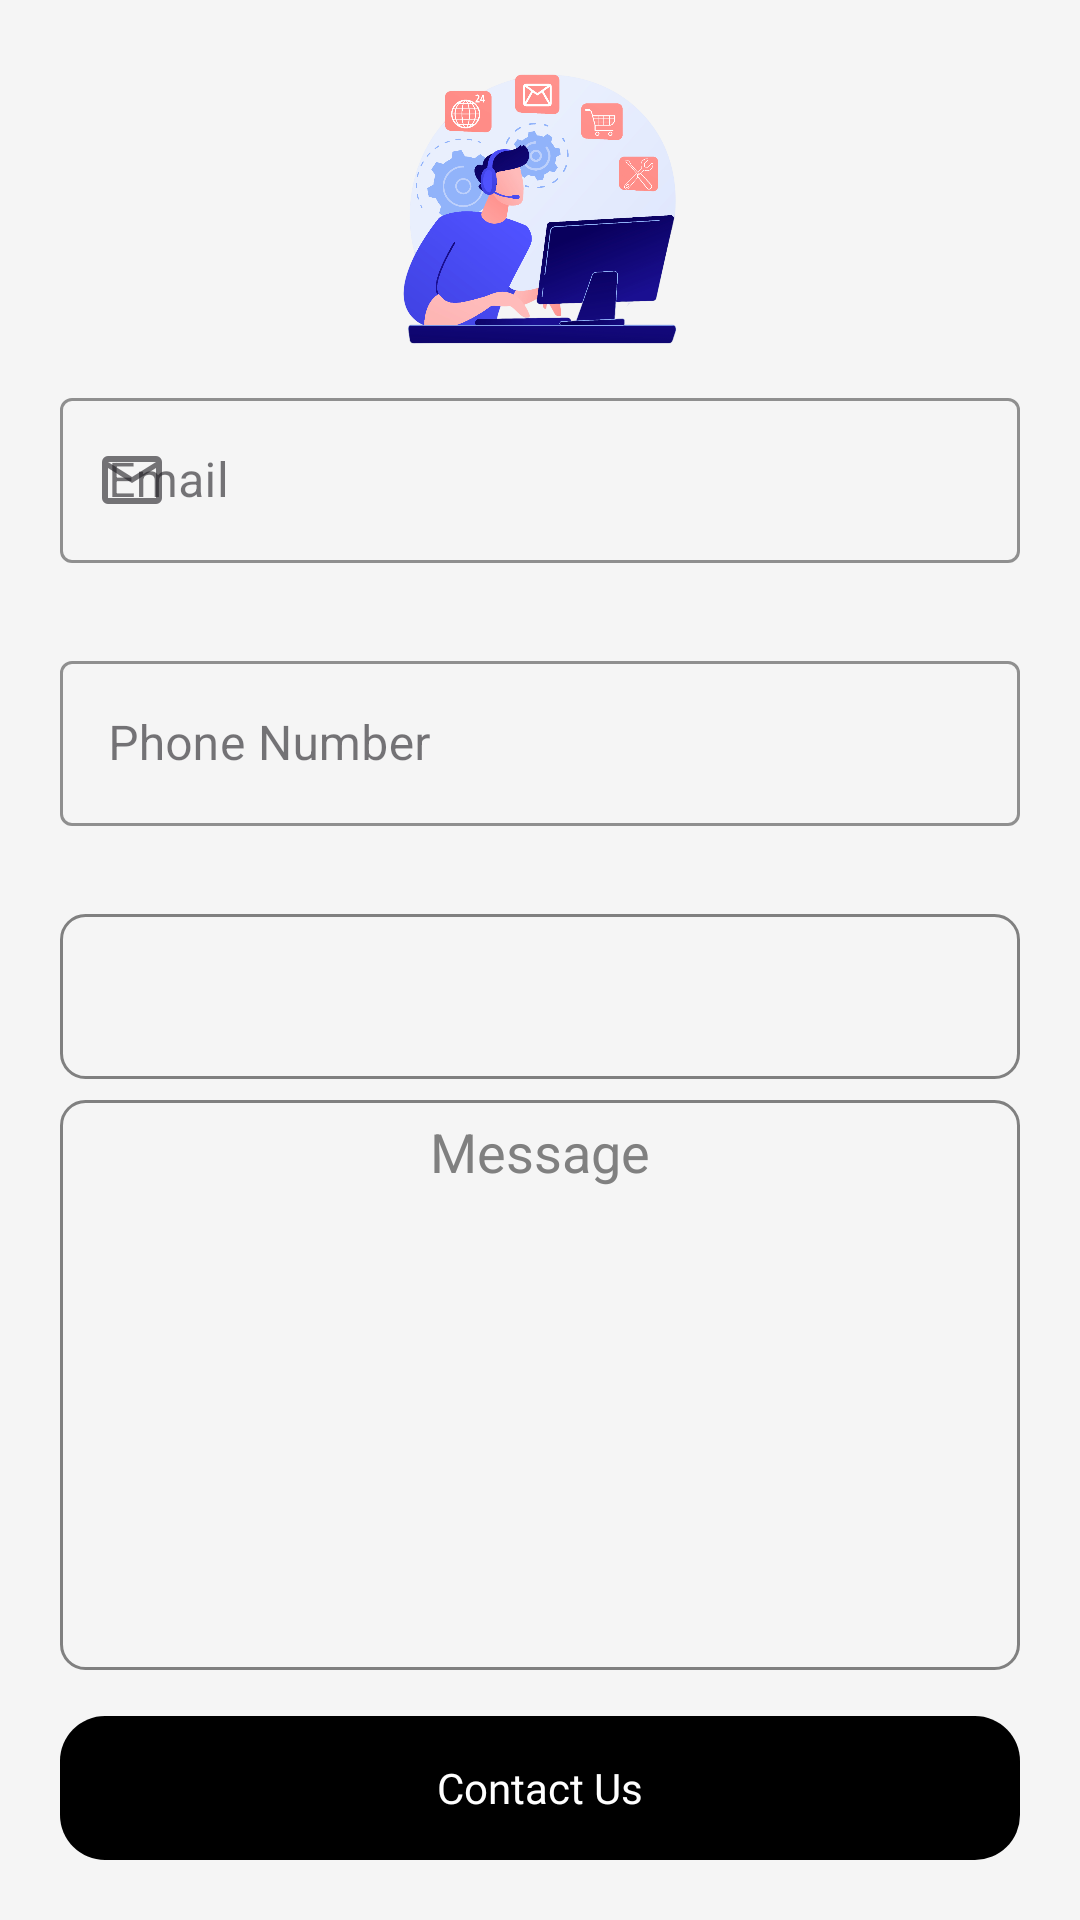

Icon bounding boxes for this 1080px x 1920px phone screenshot, format rect(x1, y1, x2, y2):
contact: rect(403, 75, 676, 344)
